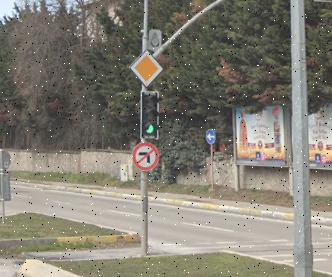greenlight: (140, 91, 160, 138)
leftturnsareforbidden: (133, 143, 160, 171)
turnleft: (206, 129, 217, 145)
